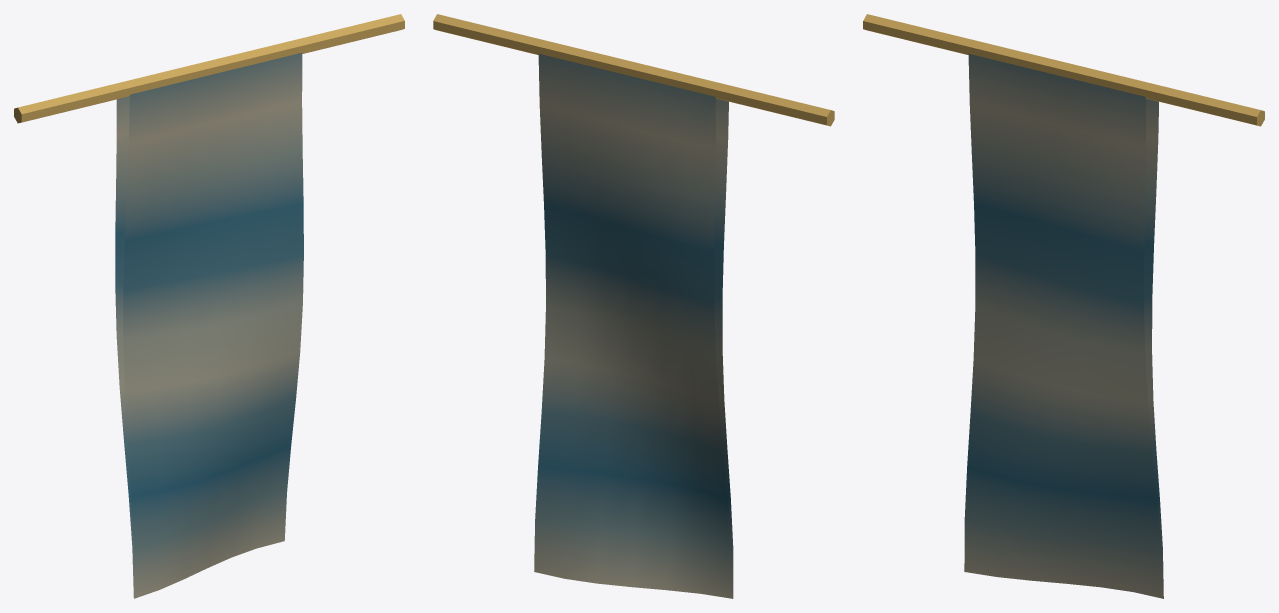
File: mall-scarf-hung.glb
The picture shows the model from 3 angles, left to right: view 1: azimuth 30°, elevation 25°; view 2: azimuth 150°, elevation 25°; view 3: azimuth 330°, elevation 25°; orthographic projection. The views are drawn at different scales.
Visible parts, largest first — view 1: scarf__fabric, bar__brass; view 2: scarf__fabric, bar__brass; view 3: scarf__fabric, bar__brass.
Part boxes in pixels (x1,y1,x2,y2): scarf__fabric: (115,52,303,598); bar__brass: (14,14,404,123); scarf__fabric: (534,54,733,598); bar__brass: (433,14,834,126); scarf__fabric: (964,54,1163,598); bar__brass: (863,14,1264,126).
Bounding box in the file's own units: 0.4 × 0.508 × 0.039.
